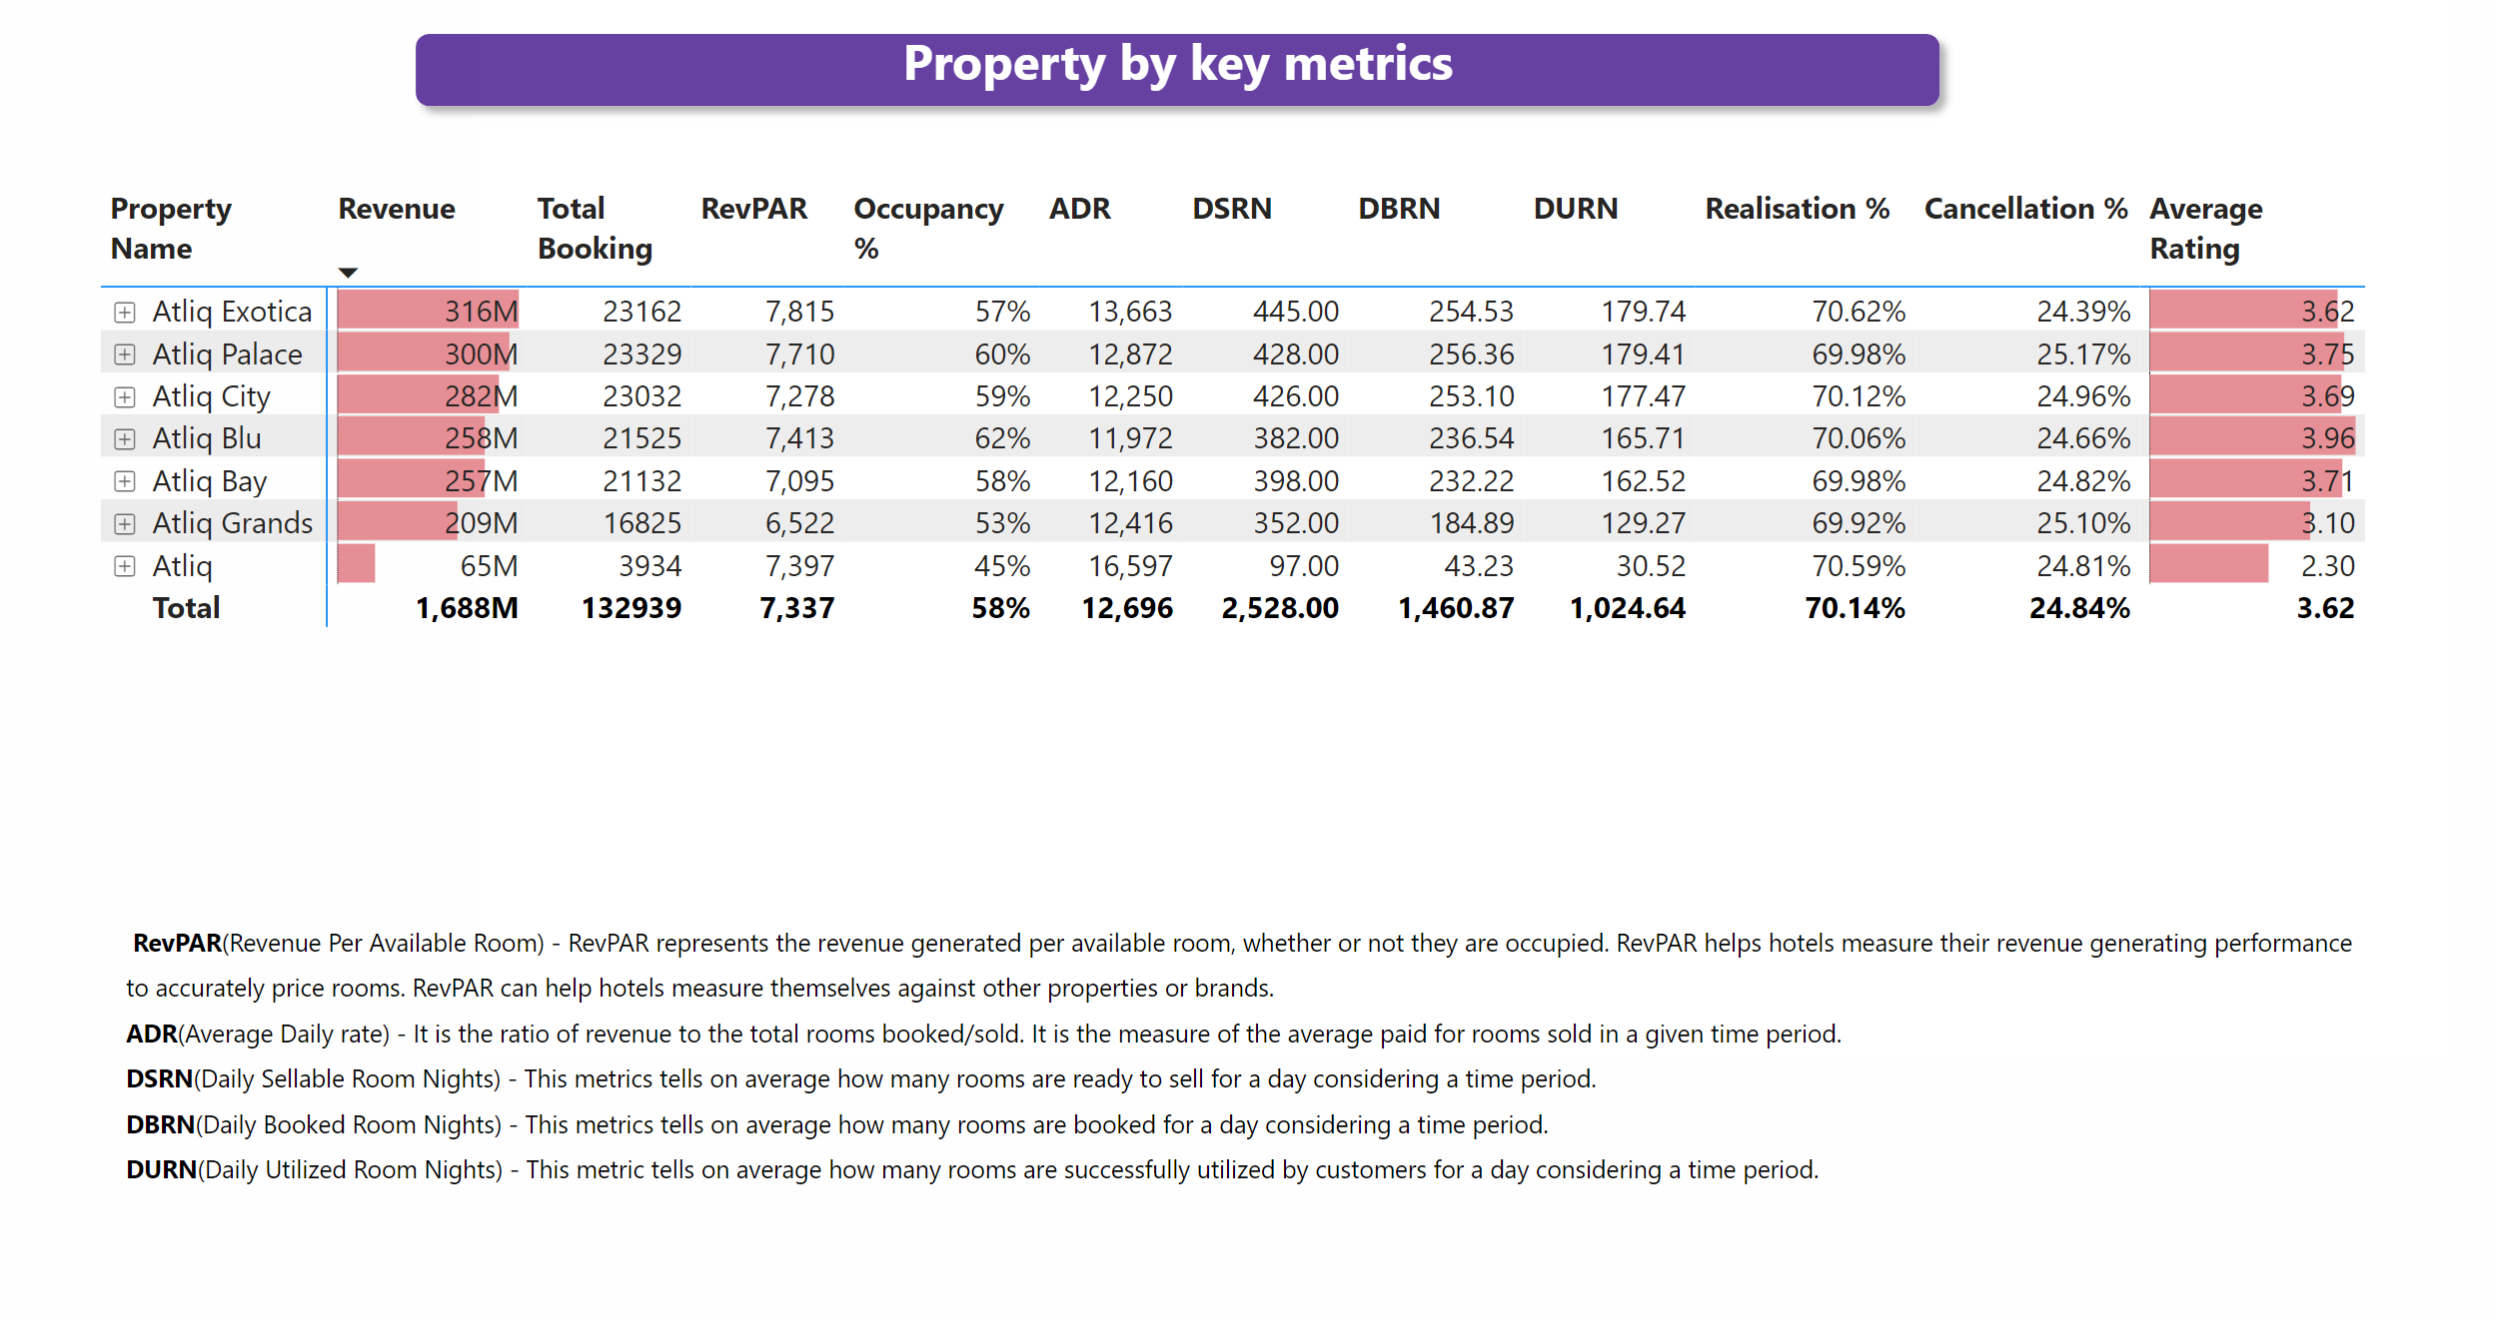

This screenshot's page, from the dashboard's own definition file:
{"tool":"powerbi","page":{"name":"Property by key metrics","canvas":[1280,720],"ordinal":2},"visuals":[{"type":"pivotTable","title":"Property by key metrics","fields":{"Rows":["dim_hotels.property_name","dim_hotels.category","dim_hotels.city"],"Values":["Key_Measures.Revenue","Key_Measures.Total Bookings","Key_Measures.RevPAR","Key_Measures.Occupancy %","Key_Measures.ADR","Key_Measures.DSRN","Key_Measures.DBRN","Key_Measures.DURN","Key_Measures.Realisation %","Key_Measures.Cancellation %","Key_Measures.Average Ratings"]},"box":[12.8,97.4,1254,327.4],"z":0},{"type":"shape","box":[179.5,11.2,844.3,57.1],"z":1000},{"type":"textbox","box":[370.4,11.9,462.1,56],"z":2000},{"type":"textbox","box":[26.5,493.2,1226.6,185.5],"z":3000}]}

Visuals, with their boxes on the page's 1280x720 design canvas (x1, y1, x2, y2). These are canvas units, not pixel positions in the 2496x1318 screenshot, which may show the page scaled, cropped or inside an application window:
"Property by key metrics" pivotTable: (13, 97, 1267, 425)
shape: (180, 11, 1024, 68)
textbox: (370, 12, 832, 68)
textbox: (26, 493, 1253, 679)
